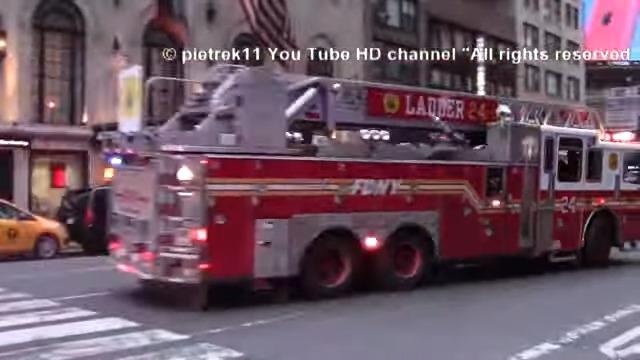Fire-engine: (95, 61, 639, 309)
